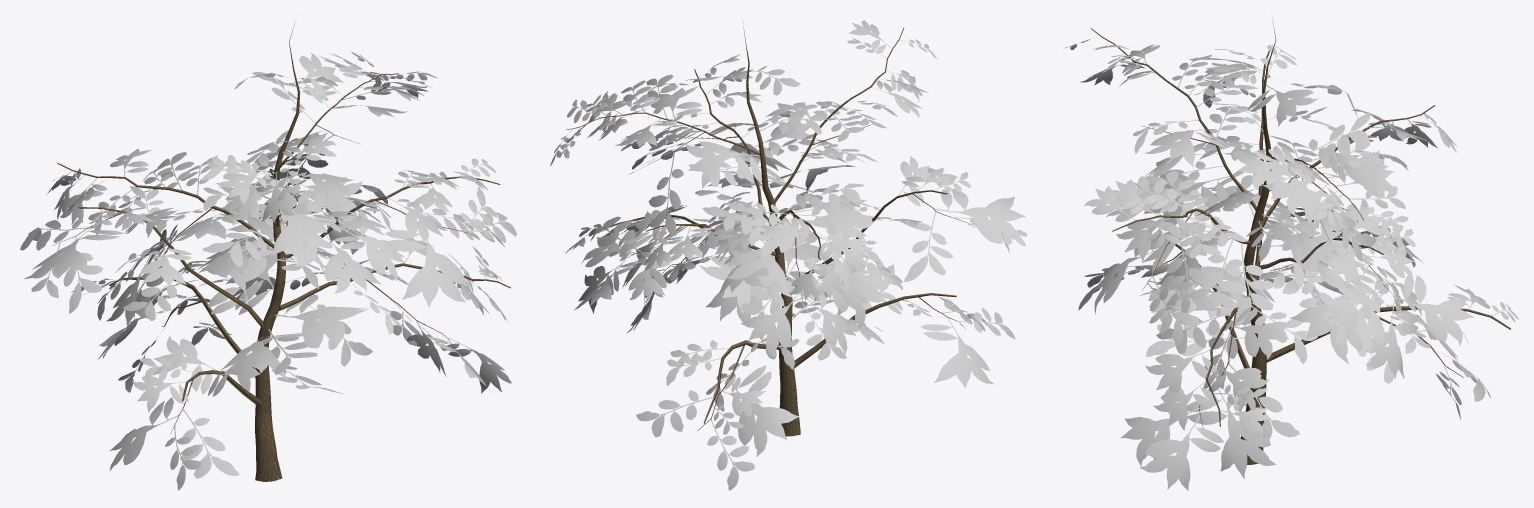
File: BIO_VEG_Bush_01A.fbx
The picture shows the model from 3 angles, left to right: view 1: azimuth 30°, elevation 25°; view 2: azimuth 150°, elevation 25°; view 3: azimuth 270°, elevation 25°; orthographic projection. The views are drawn at different scales.
Visible parts, largest first — view 1: BIO_VEG_Bush_01A; view 2: BIO_VEG_Bush_01A; view 3: BIO_VEG_Bush_01A.
Part boxes in pixels (<box>): BIO_VEG_Bush_01A: <box>20,24,516,490</box>; BIO_VEG_Bush_01A: <box>550,20,1026,490</box>; BIO_VEG_Bush_01A: <box>1064,17,1518,490</box>.
Bounding box in the file's own units: 139 × 122 × 109.
